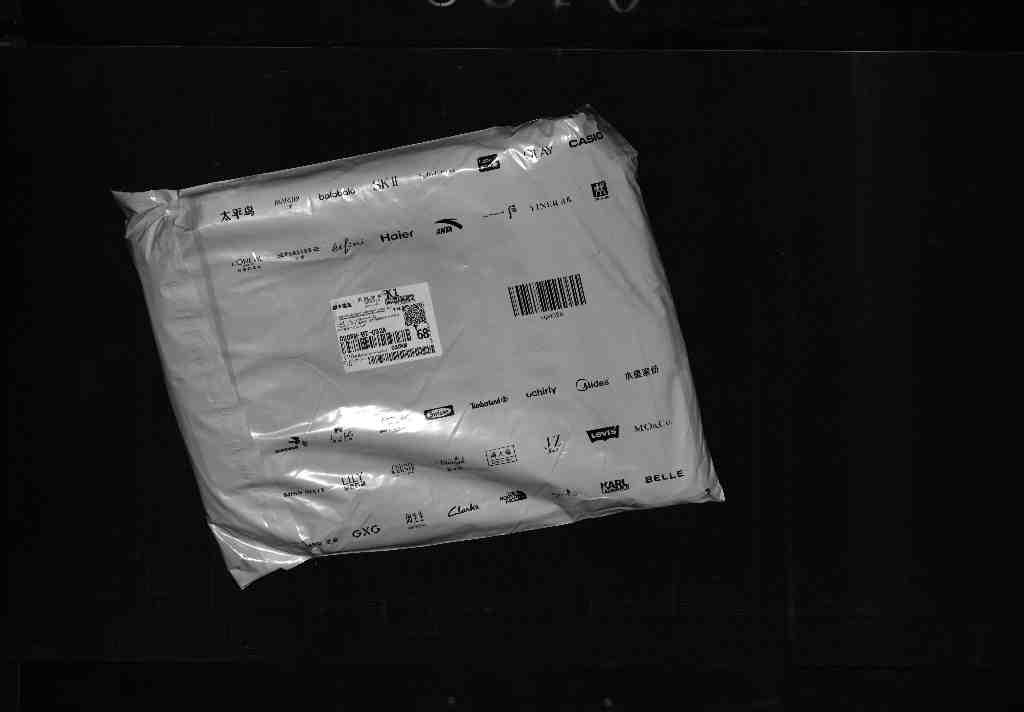box: (118, 105, 736, 583)
